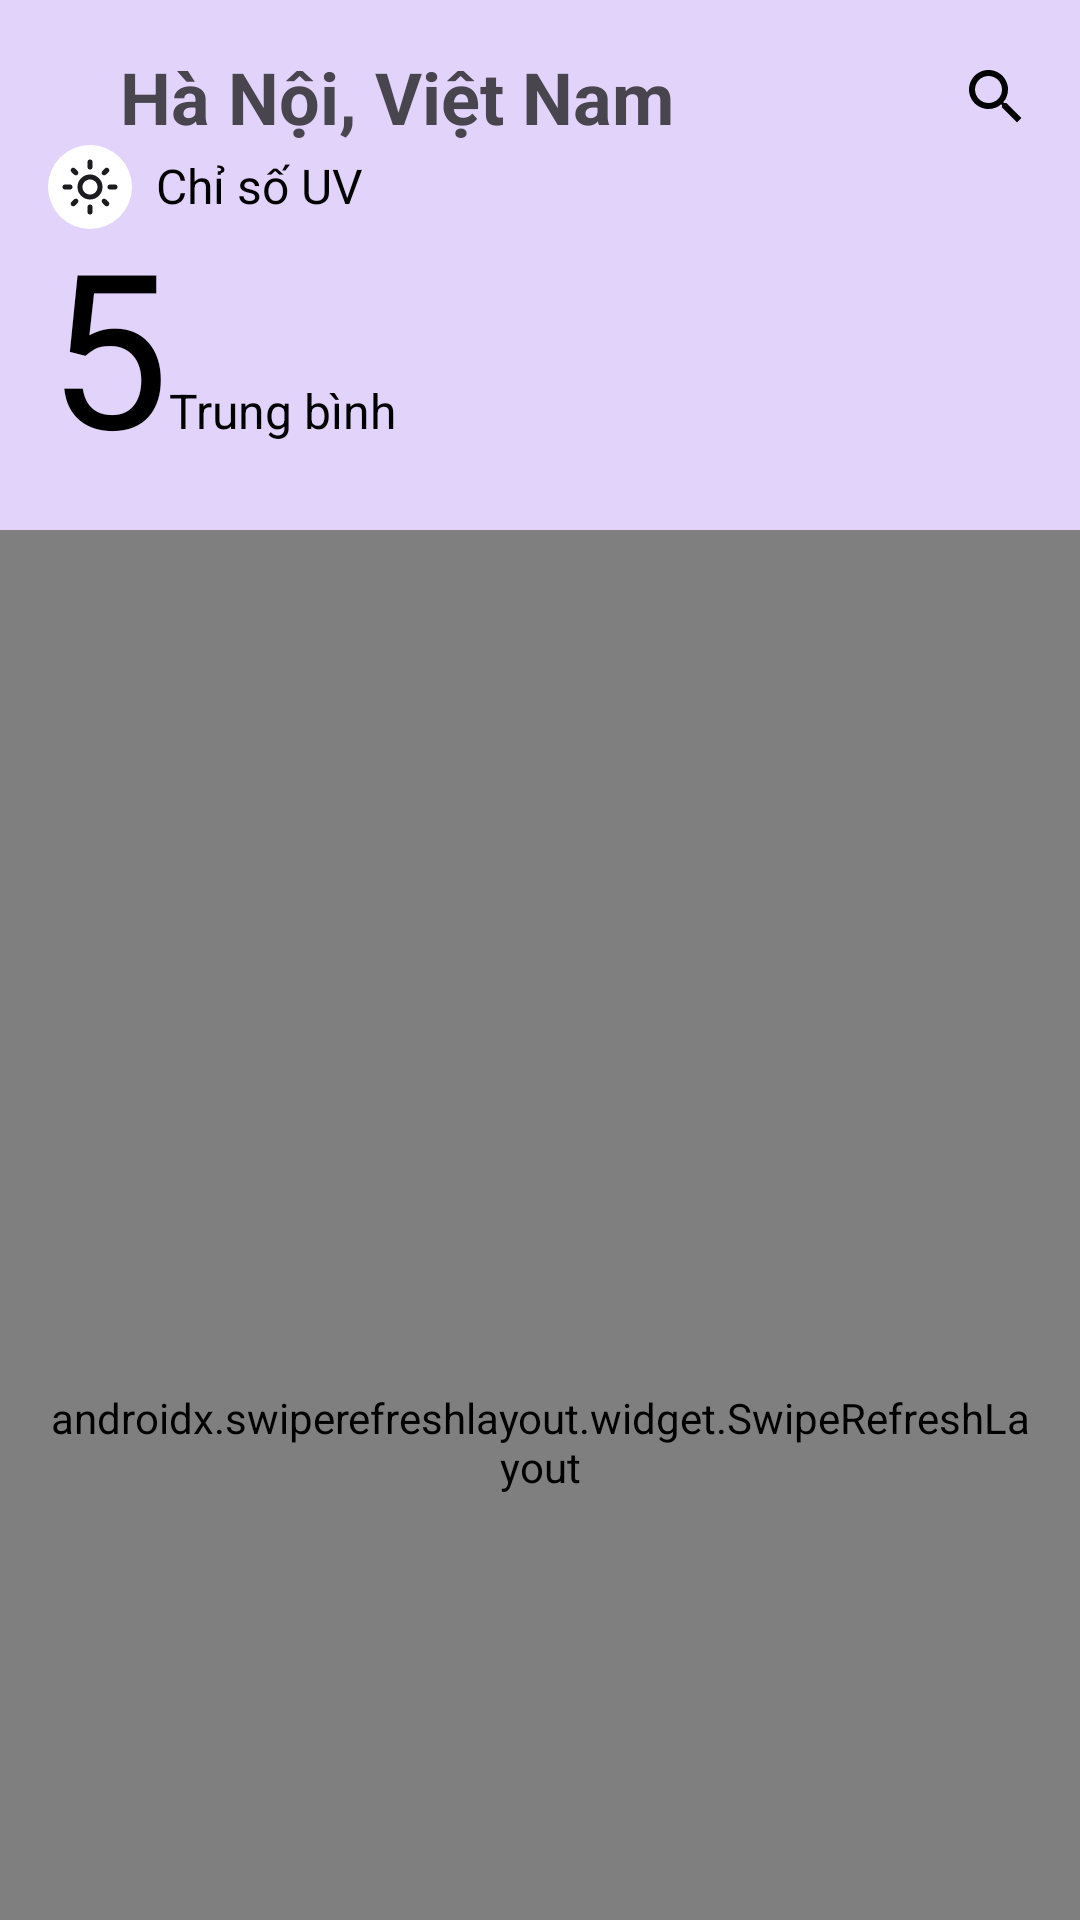

Locate icon controls on the screen. Image size 1080px x 1920px, boxes as (x1, y1, x2, y2).
search: (969, 70, 1021, 122)
